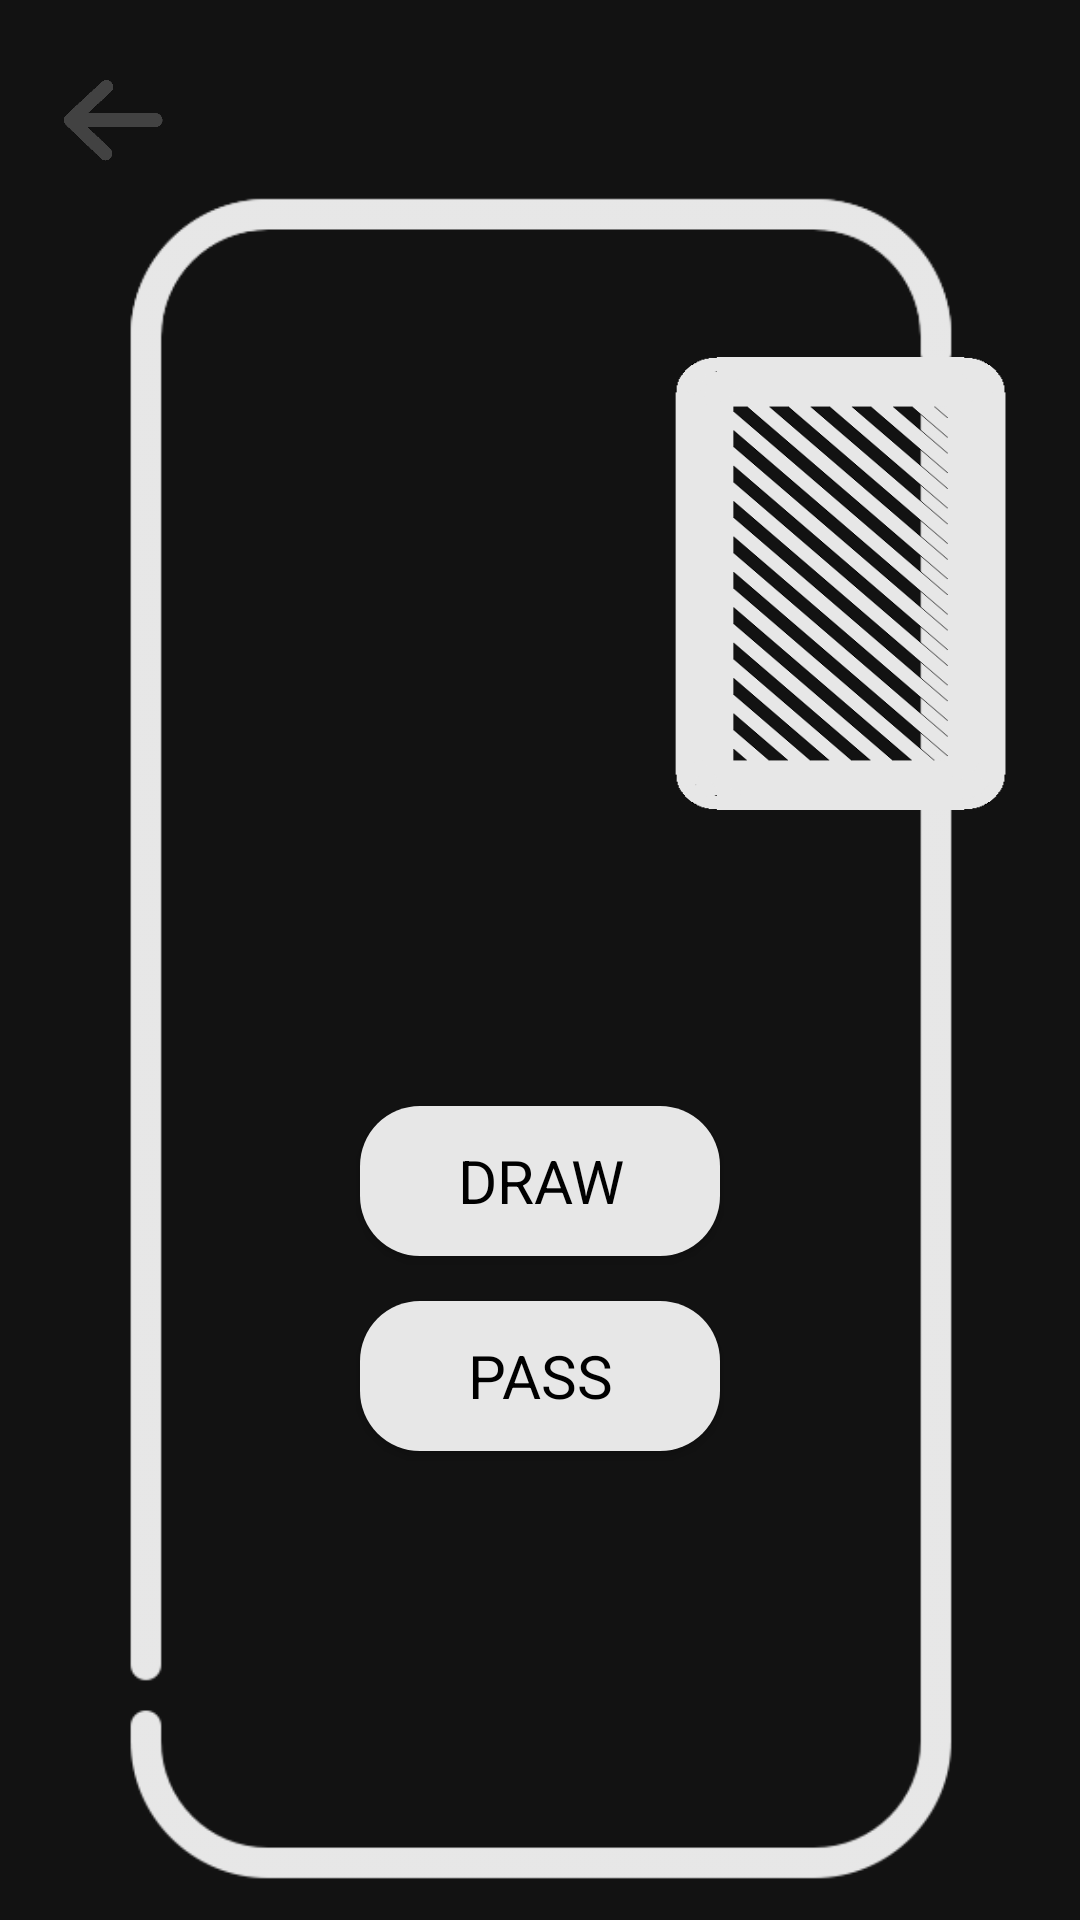

Named icons in this screenshot (1080*1920) and their bounding boxes, BBox(x1, y1, x2, y2):
back: BBox(64, 80, 163, 160)
